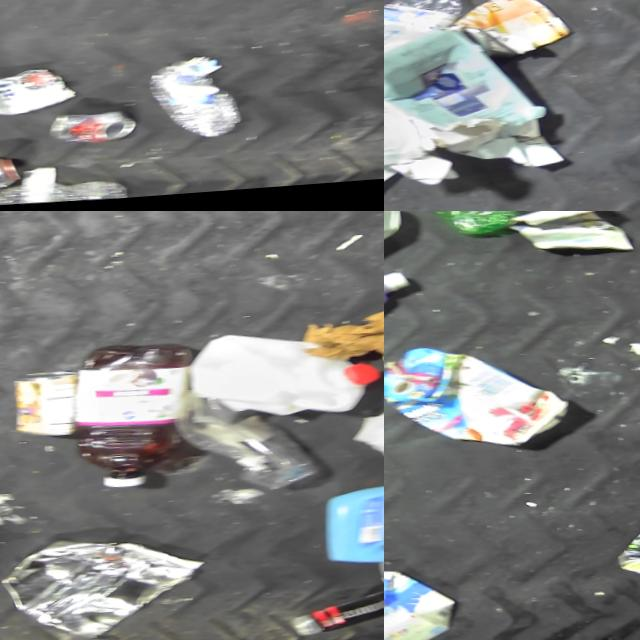can: (4, 526, 209, 640), (448, 0, 587, 69), (10, 362, 95, 445), (0, 66, 85, 120), (53, 111, 144, 150), (610, 525, 640, 599), (0, 153, 31, 201)
milk_jug: (177, 324, 384, 432)
non_white_jug: (320, 479, 384, 578)
plastic_bottle: (150, 58, 252, 148), (0, 177, 137, 210), (384, 0, 467, 54), (407, 211, 529, 239)
